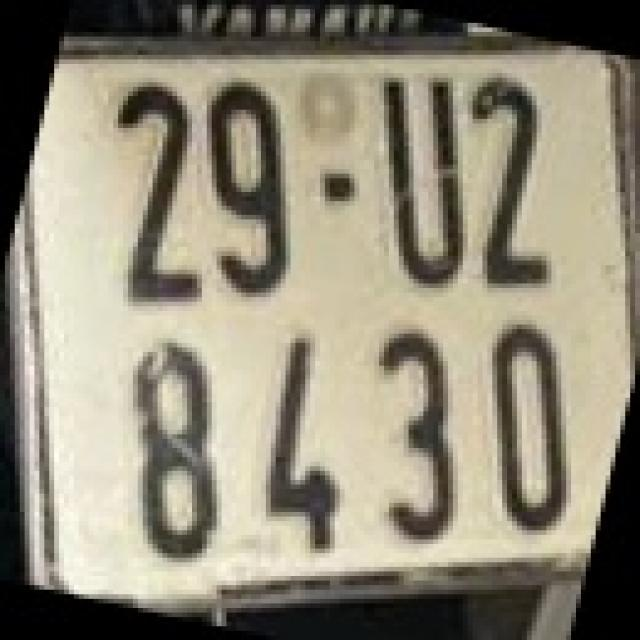0: (487, 320, 571, 540)
2: (108, 78, 207, 306), (473, 73, 561, 288)
3: (370, 330, 462, 540)
4: (261, 334, 345, 554)
8: (128, 338, 226, 562)
9: (207, 82, 296, 297)
U: (374, 78, 472, 284)
